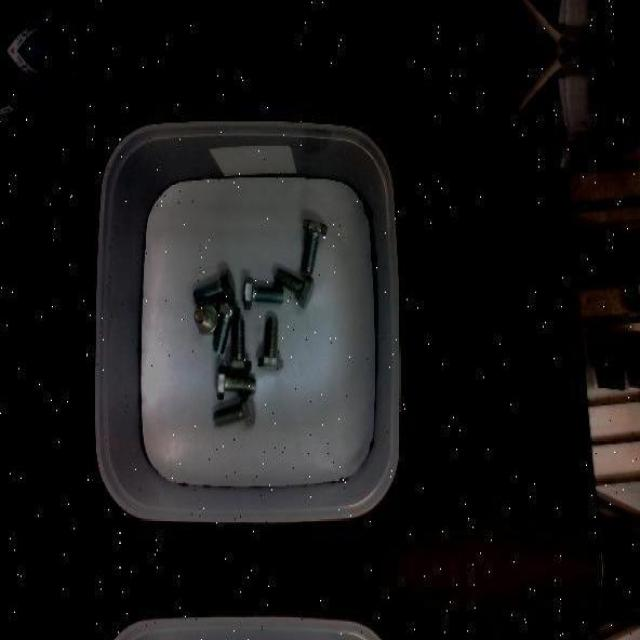screw: (274, 267, 314, 308), (193, 268, 236, 304), (213, 391, 256, 426), (213, 301, 241, 354), (227, 319, 253, 375), (218, 364, 258, 400), (302, 218, 328, 273), (258, 317, 284, 370), (244, 276, 284, 310), (194, 304, 220, 334)
